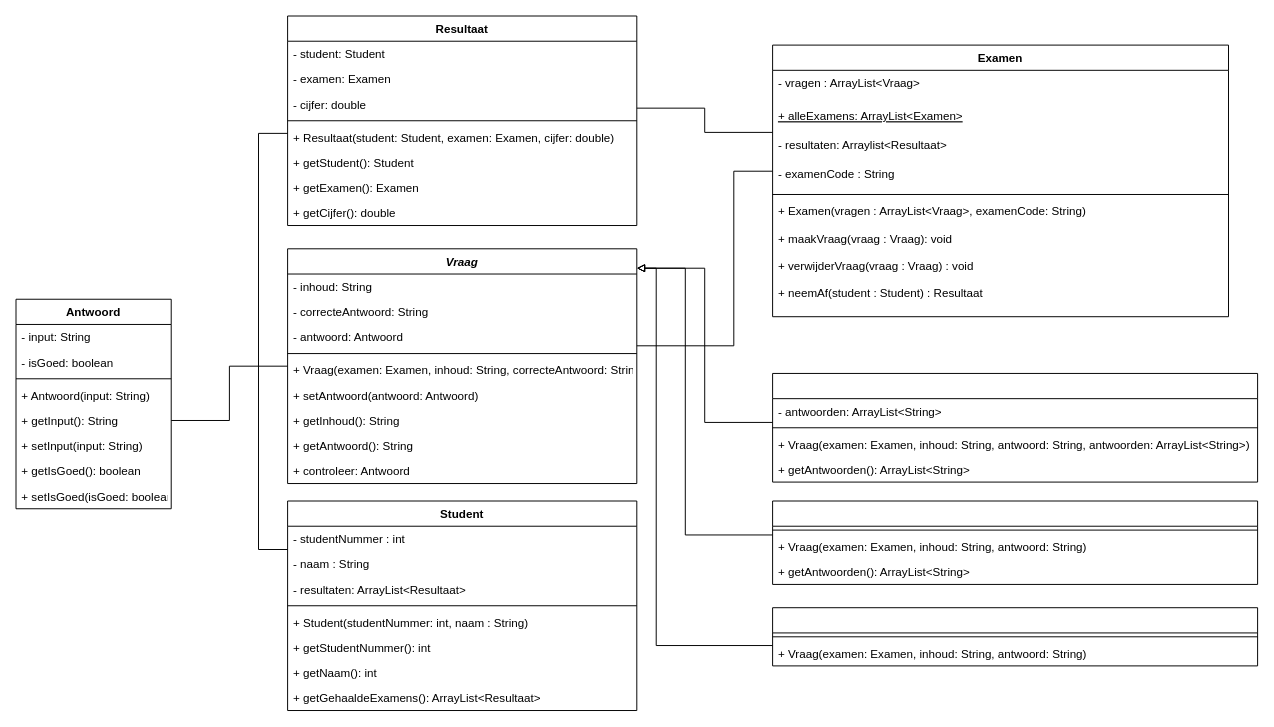
Image size: 1274x727. Some labels were removed from this diagram. Each missing label, with the box of its shape:
GeslotenVraag: (772, 500, 1258, 584)
MeerkeuzeVraag: (772, 372, 1258, 482)
OpenVraag: (772, 607, 1258, 666)
